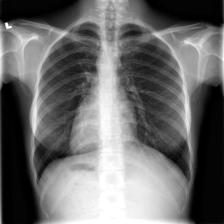normal: (26, 15, 194, 192)
